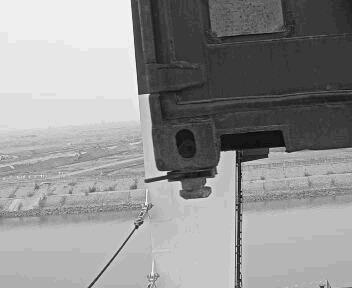twist_lock_1: (159, 162, 225, 209)
